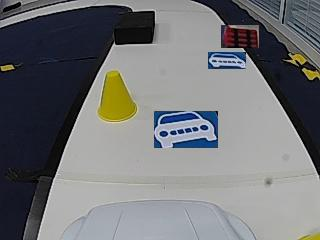block: (114, 10, 154, 44)
cone: (97, 71, 138, 122)
